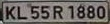character: (5, 6, 16, 20), (17, 6, 27, 20), (53, 5, 63, 19), (30, 5, 39, 19), (41, 5, 50, 19), (76, 5, 85, 19), (86, 5, 95, 19), (96, 5, 105, 19), (68, 5, 74, 18)
